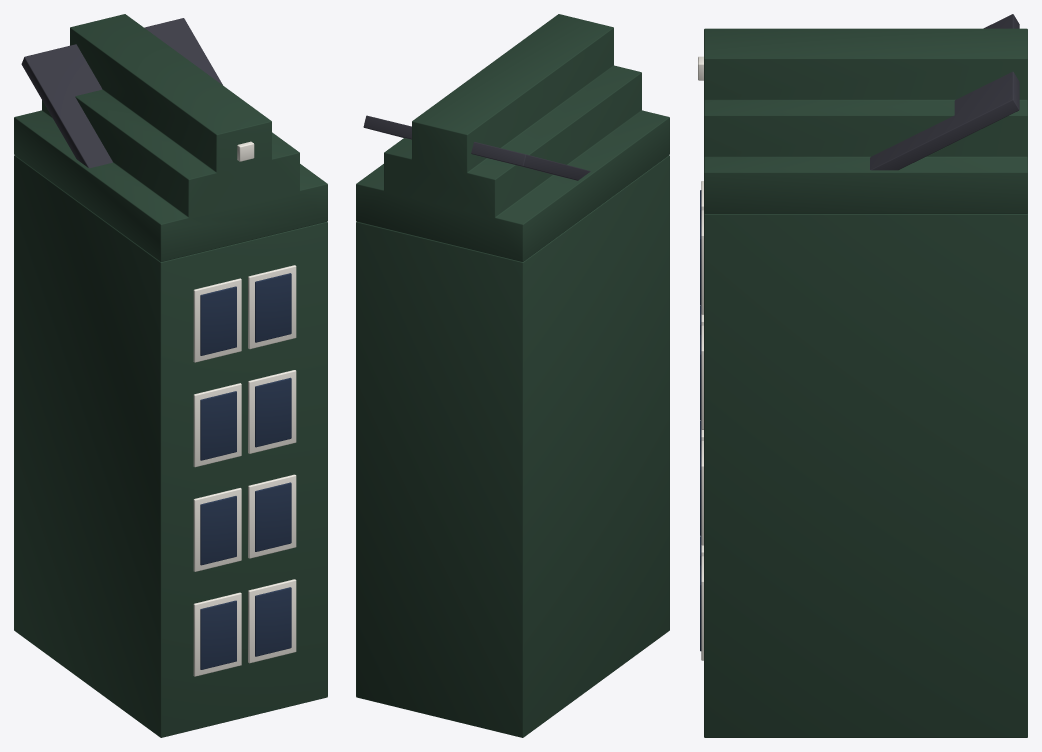
The model's file is rg_holanda_2.glb.
The picture shows the model from 3 angles, left to right: view 1: azimuth 30°, elevation 25°; view 2: azimuth 150°, elevation 25°; view 3: azimuth 270°, elevation 25°; orthographic projection. The views are drawn at different scales.
Visible parts, largest first — view 1: rg_holanda_2; view 2: rg_holanda_2; view 3: rg_holanda_2.
Part boxes in pixels (<box>): rg_holanda_2: <box>14,14,327,737</box>; rg_holanda_2: <box>356,14,669,737</box>; rg_holanda_2: <box>698,14,1027,737</box>.
Size of the model in its own units: 4.6 by 15.5 by 7.13.
